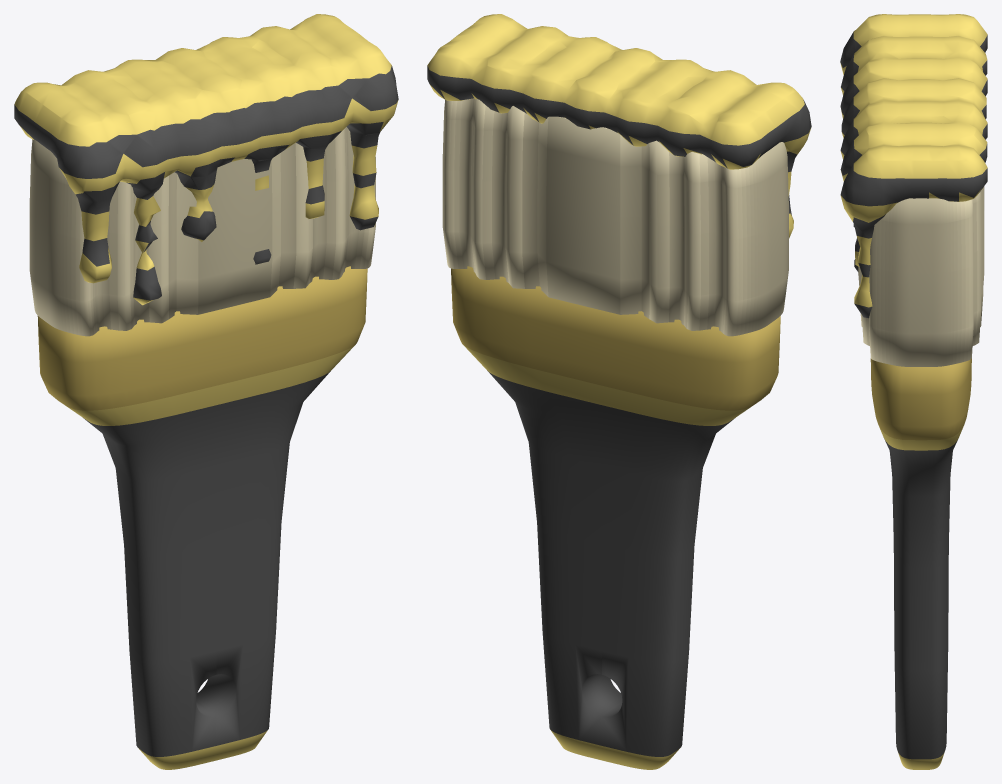
Rendered from Paintbrush_Bee.glb.
3 renders of one model, left to right at view 1: azimuth 30°, elevation 25°; view 2: azimuth 150°, elevation 25°; view 3: azimuth 270°, elevation 25°, orthographic. The views are drawn at different scales.
Parts seen in each view (by area): view 1: Body, Paint, Bristles; view 2: Body, Bristles, Paint; view 3: Paint, Body, Bristles.
Part boxes in pixels (bbox=[...]): Body: bbox=[37, 266, 367, 769]; Paint: bbox=[14, 14, 398, 305]; Bristles: bbox=[29, 127, 375, 336]; Body: bbox=[451, 266, 780, 769]; Bristles: bbox=[442, 98, 788, 336]; Paint: bbox=[427, 14, 811, 238]; Paint: bbox=[840, 14, 987, 318]; Body: bbox=[870, 358, 971, 769]; Bristles: bbox=[858, 186, 984, 366].
Bounding box in the file's own units: 1.23 × 2.44 × 0.4919.
